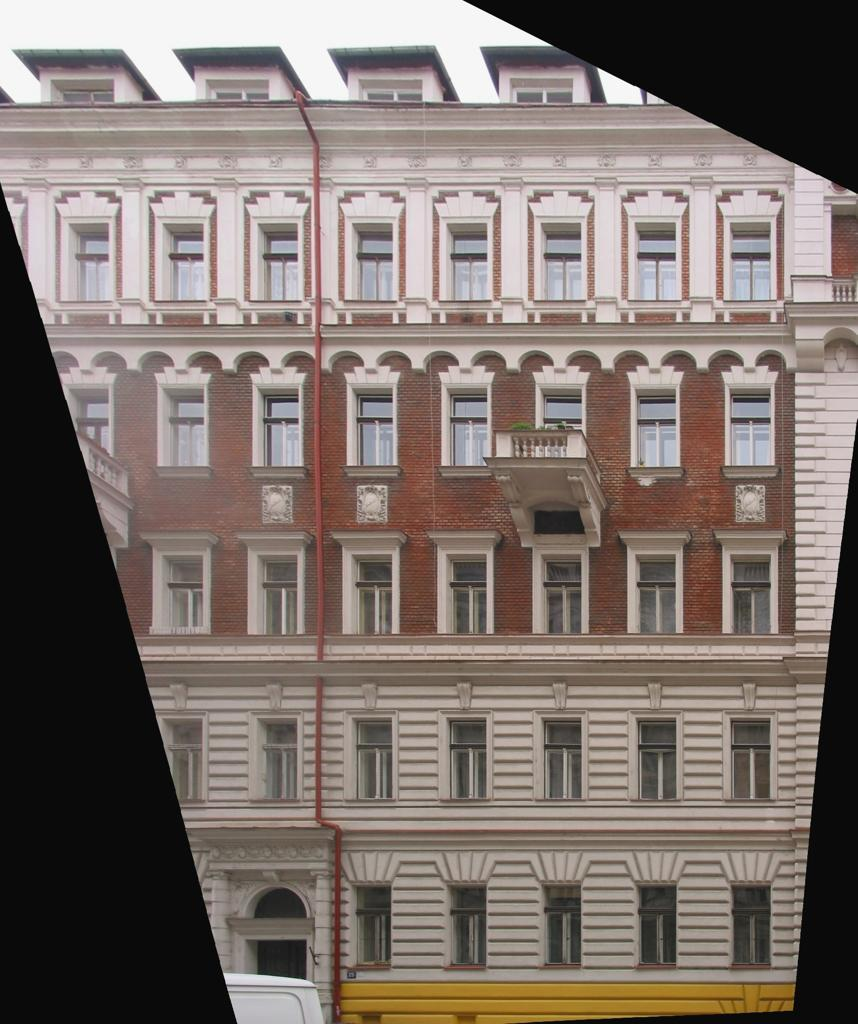window: (541, 884, 582, 967), (731, 885, 772, 967), (162, 718, 203, 800), (446, 717, 487, 798), (257, 555, 298, 635), (636, 718, 676, 800), (257, 718, 297, 799), (541, 718, 581, 799), (635, 222, 676, 301), (163, 389, 205, 466), (67, 389, 109, 466), (731, 555, 771, 635), (163, 223, 204, 301), (447, 885, 486, 967), (637, 885, 676, 967), (636, 389, 677, 467), (163, 555, 203, 634), (541, 555, 581, 634), (447, 555, 487, 634), (353, 718, 392, 799), (731, 718, 770, 799), (259, 389, 300, 466), (730, 389, 771, 466), (352, 224, 393, 301), (352, 555, 391, 635), (636, 555, 676, 633), (353, 885, 391, 967), (446, 224, 487, 300), (731, 223, 771, 300), (542, 223, 582, 300), (447, 389, 487, 466), (259, 223, 298, 300), (354, 389, 393, 466), (70, 224, 108, 301), (541, 389, 583, 457), (244, 888, 307, 919), (510, 78, 574, 105), (50, 80, 114, 104), (359, 81, 423, 103), (205, 79, 269, 101)
